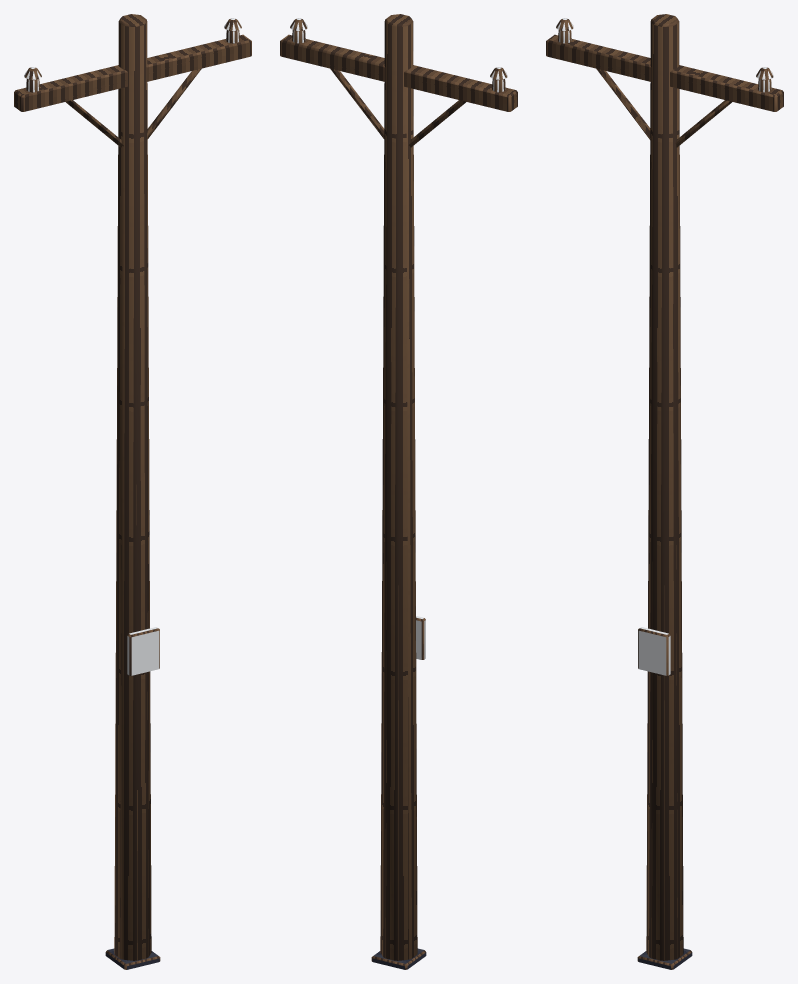
File: cn_utility_pole_0.glb
The picture shows the model from 3 angles, left to right: view 1: azimuth 30°, elevation 25°; view 2: azimuth 150°, elevation 25°; view 3: azimuth 330°, elevation 25°; orthographic projection.
Parts seen in each view (by area): view 1: cn_utility_pole_1; view 2: cn_utility_pole_1; view 3: cn_utility_pole_1.
Boxes of the visible parts, x1,y1,x2,y2 form: cn_utility_pole_1: (14, 14, 251, 969); cn_utility_pole_1: (280, 14, 517, 969); cn_utility_pole_1: (546, 14, 783, 969).
Size of the model in its own units: 1.8 by 7 by 0.31.
Materials: 3 (3 with a texture image).
